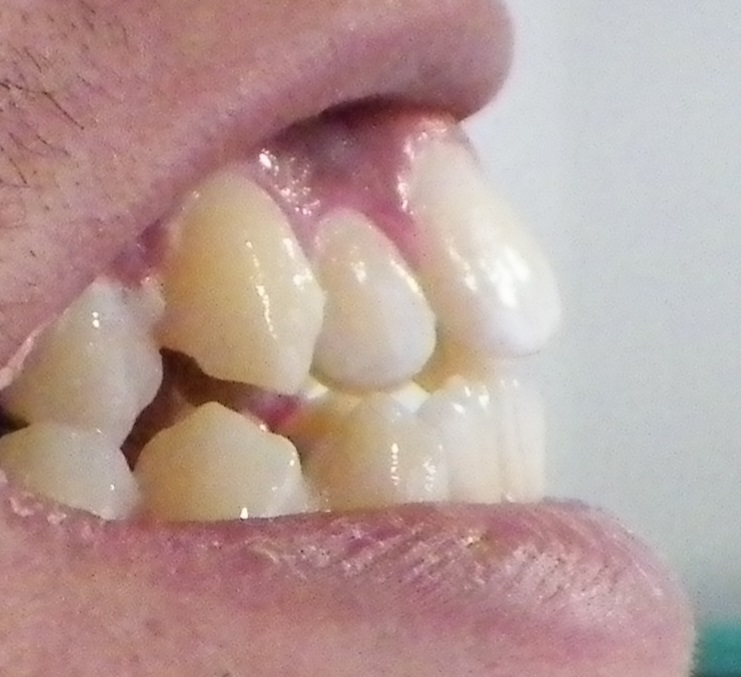boca: (7, 127, 571, 513)
